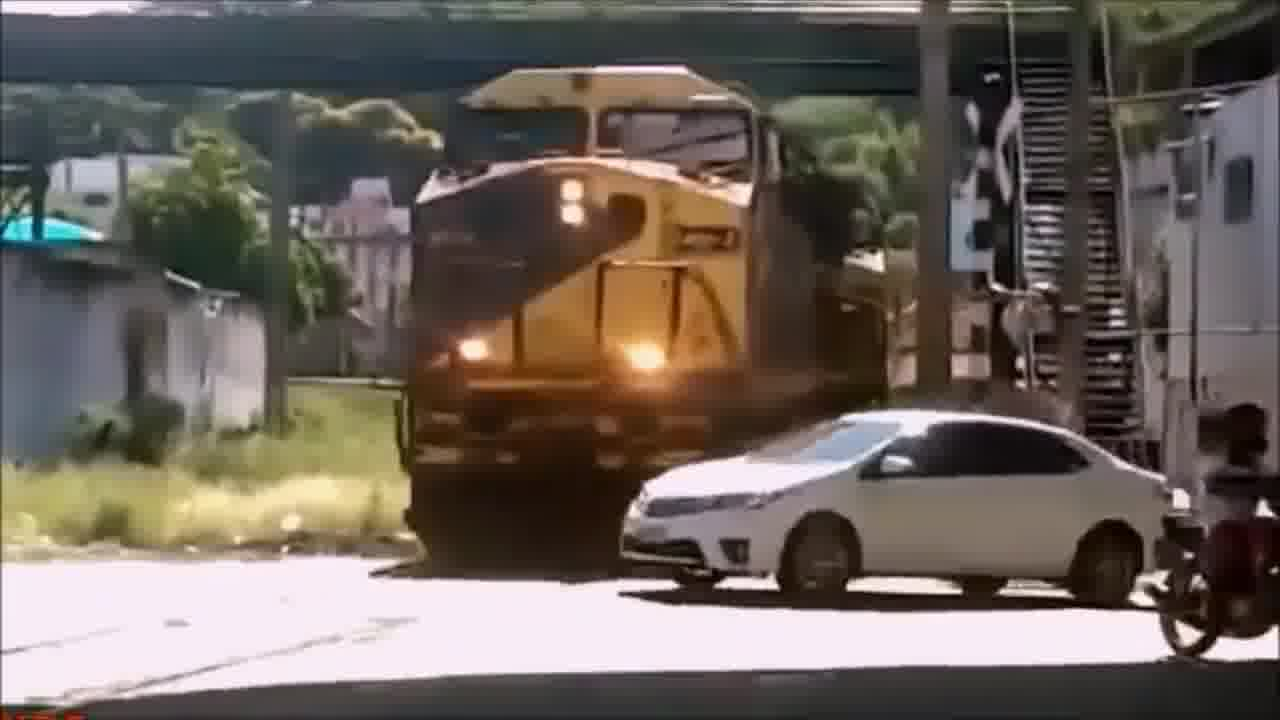crossing railway track: (575, 383, 1203, 638)
